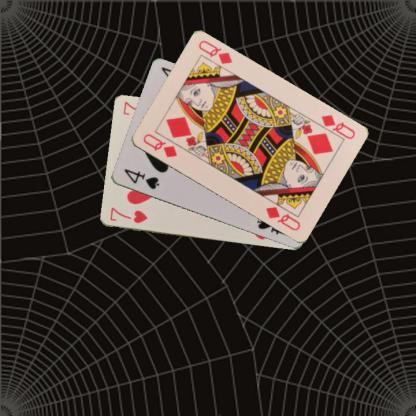4s: (121, 166, 160, 191)
7h: (107, 204, 148, 224)
Qd: (312, 112, 356, 142), (140, 131, 178, 159)
